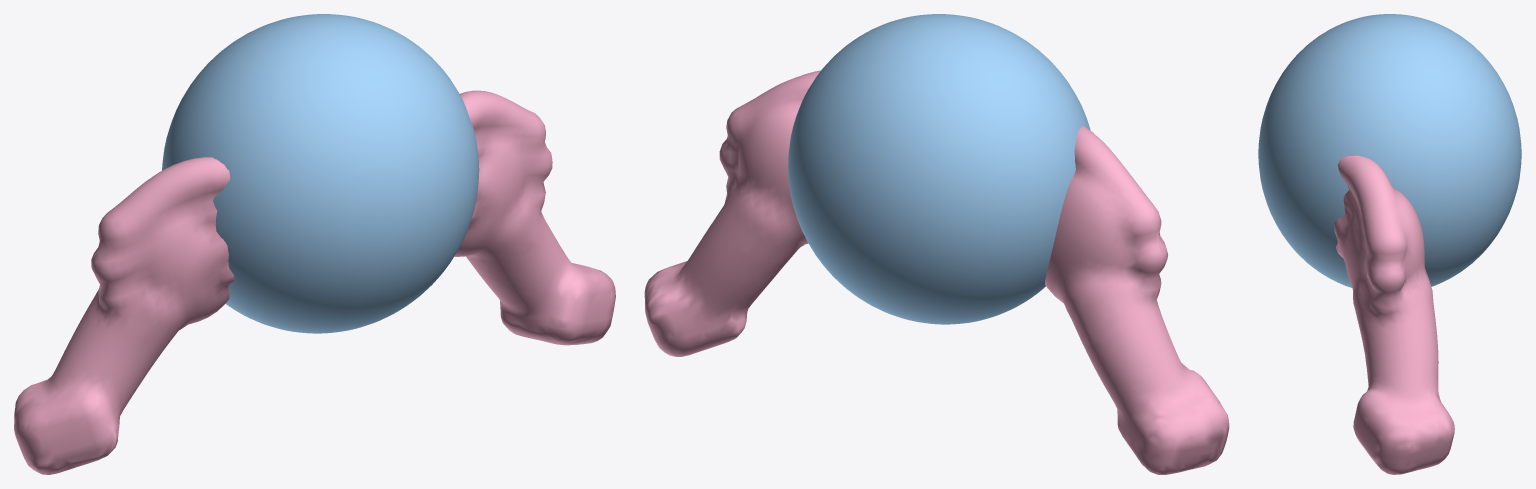
The model's file is hand_sphere_runtime_test.glb.
3 renders of one model, left to right at view 1: azimuth 30°, elevation 25°; view 2: azimuth 150°, elevation 25°; view 3: azimuth 270°, elevation 25°, orthographic. The views are drawn at different scales.
Parts seen in each view (by area): view 1: RuntimeTest_Sphere, RuntimeTest_Left_Merged, RuntimeTest_Right_Merged; view 2: RuntimeTest_Sphere, RuntimeTest_Left_Merged, RuntimeTest_Right_Merged; view 3: RuntimeTest_Sphere, RuntimeTest_Right_Merged.
Part boxes in pixels (x1,y1,x2,y2): RuntimeTest_Sphere: (162,14,479,333); RuntimeTest_Left_Merged: (14,157,233,474); RuntimeTest_Right_Merged: (454,90,615,345); RuntimeTest_Sphere: (788,14,1090,324); RuntimeTest_Left_Merged: (1045,126,1229,474); RuntimeTest_Right_Merged: (644,70,820,356); RuntimeTest_Sphere: (1258,14,1521,287); RuntimeTest_Right_Merged: (1334,155,1454,474).
Size of the model in its own units: 4.27 by 2.61 by 1.88.
